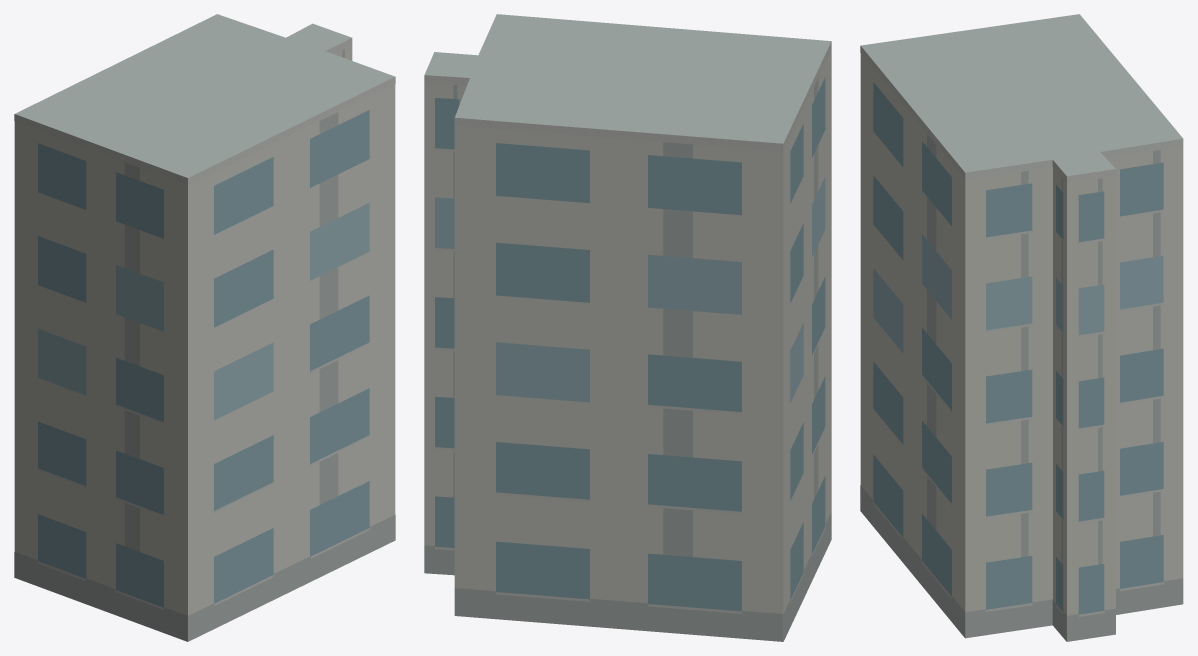
Rendered from survey-upis-32769123.glb.
3 views of the same model, side by side, from view 1: azimuth 30°, elevation 25°; view 2: azimuth 150°, elevation 25°; view 3: azimuth 270°, elevation 25° (orthographic). The views are drawn at different scales.
Parts seen in each view (by area): view 1: survey-upis-32769123.tmp; view 2: survey-upis-32769123.tmp; view 3: survey-upis-32769123.tmp.
Part boxes in pixels (x1,y1,x2,y2): survey-upis-32769123.tmp: (14, 14, 395, 641); survey-upis-32769123.tmp: (424, 14, 831, 641); survey-upis-32769123.tmp: (860, 14, 1183, 641).
Bounding box in the file's own units: 11.41 × 15.25 × 9.59.
